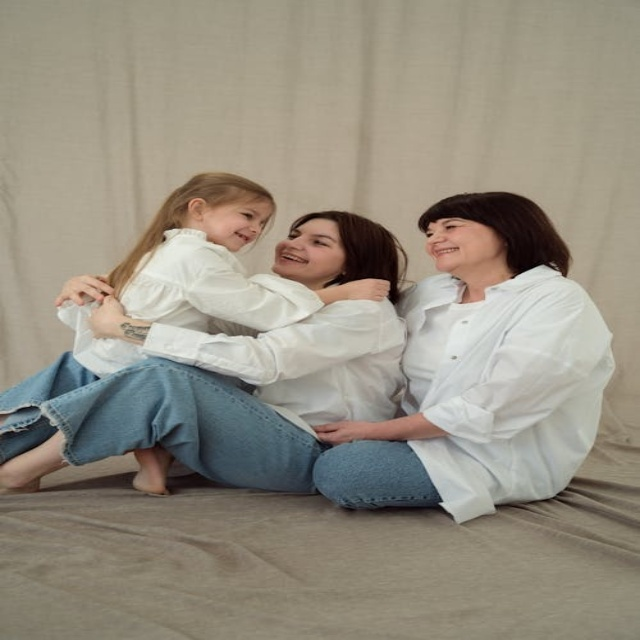Sin_gafas: (285, 227, 340, 248), (424, 217, 470, 237), (230, 206, 266, 225)
Sin_guantes: (84, 294, 144, 342), (51, 271, 118, 306), (314, 416, 383, 444), (346, 275, 392, 301)
Sin_mascara: (273, 251, 311, 271), (430, 247, 467, 266), (221, 228, 248, 249)
